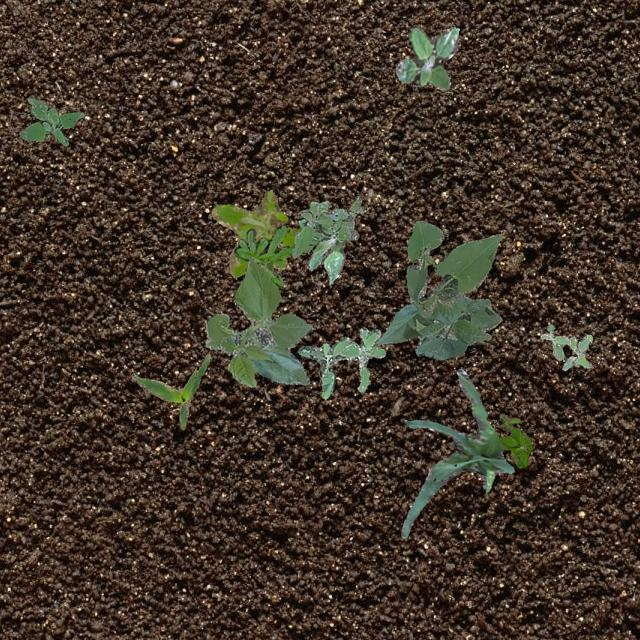crop: (400, 368, 512, 538), (376, 220, 502, 358), (205, 256, 312, 386), (130, 352, 210, 428)
weed: (210, 188, 302, 278), (298, 326, 384, 398), (291, 196, 364, 256), (394, 26, 458, 90), (233, 223, 293, 290), (297, 218, 343, 284), (21, 96, 82, 144), (540, 324, 592, 369), (498, 412, 532, 467)
